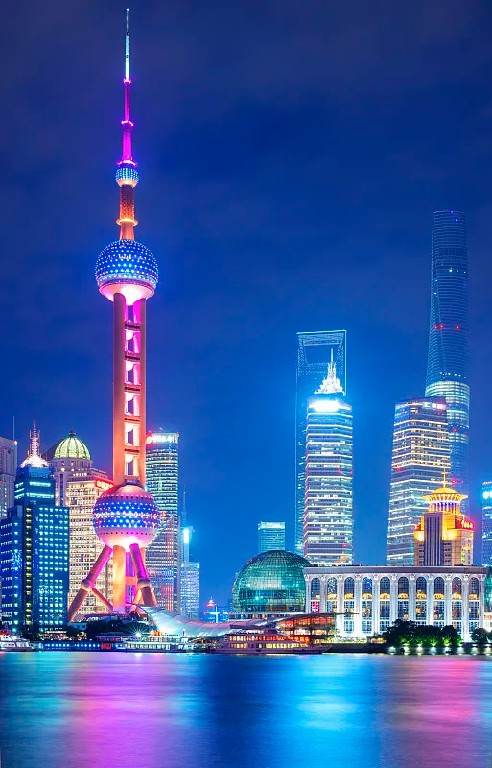Oriental: (69, 2, 160, 617)
